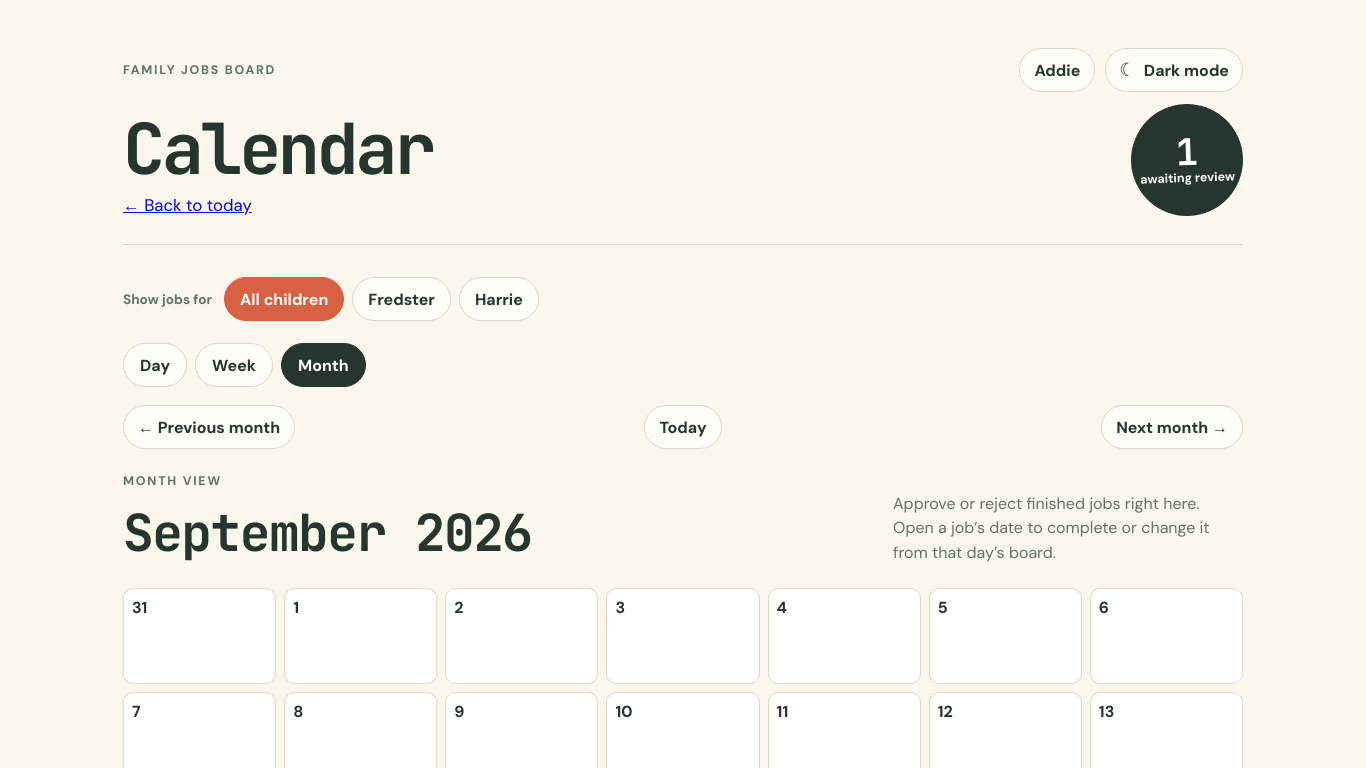
Approvals panel › rejects with feedback and resends the same reason when the rejection fails
The width and height of the screenshot is (1366, 768).
Click the button with aria-label "1 jobs awaiting review": coordinates (1187, 160) [1129,102,1245,218]
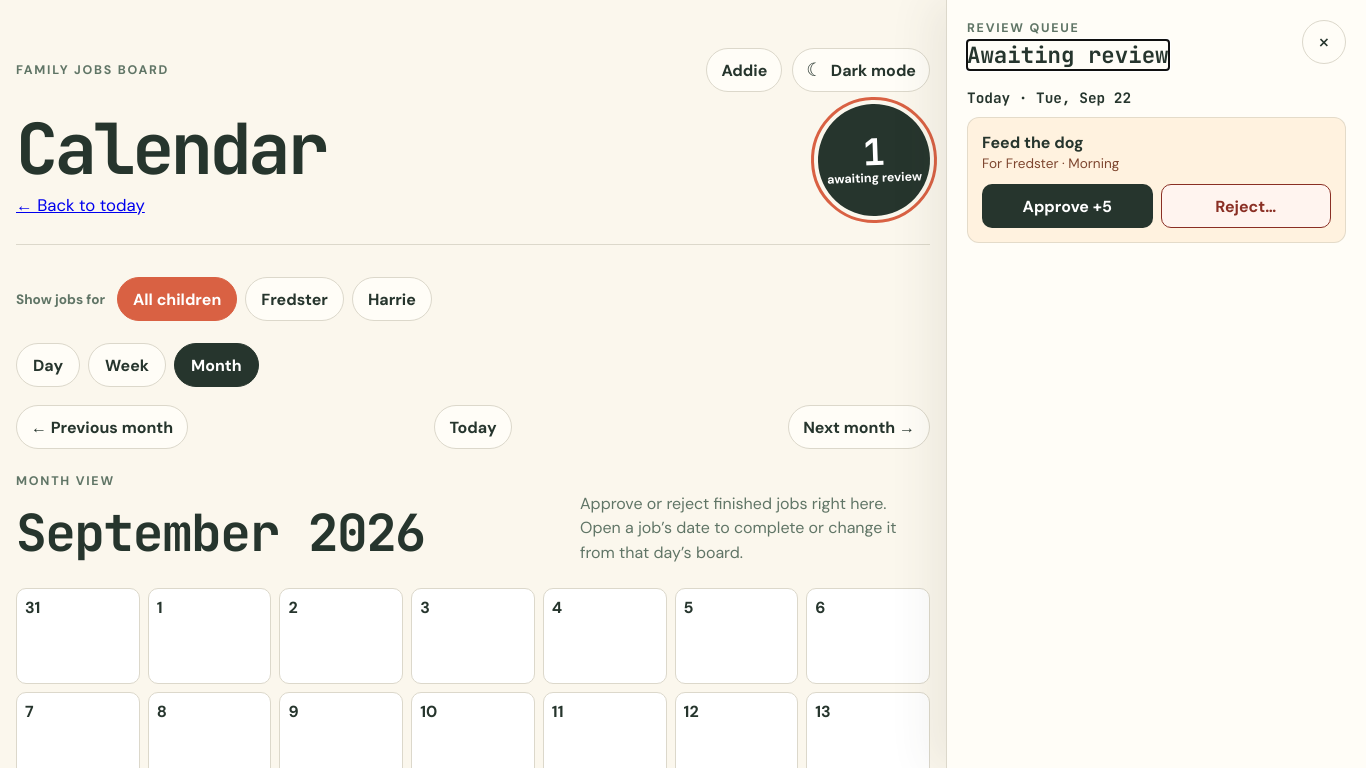
Click the heading "Reject…": coordinates (1246, 206) [1160,184,1331,228]
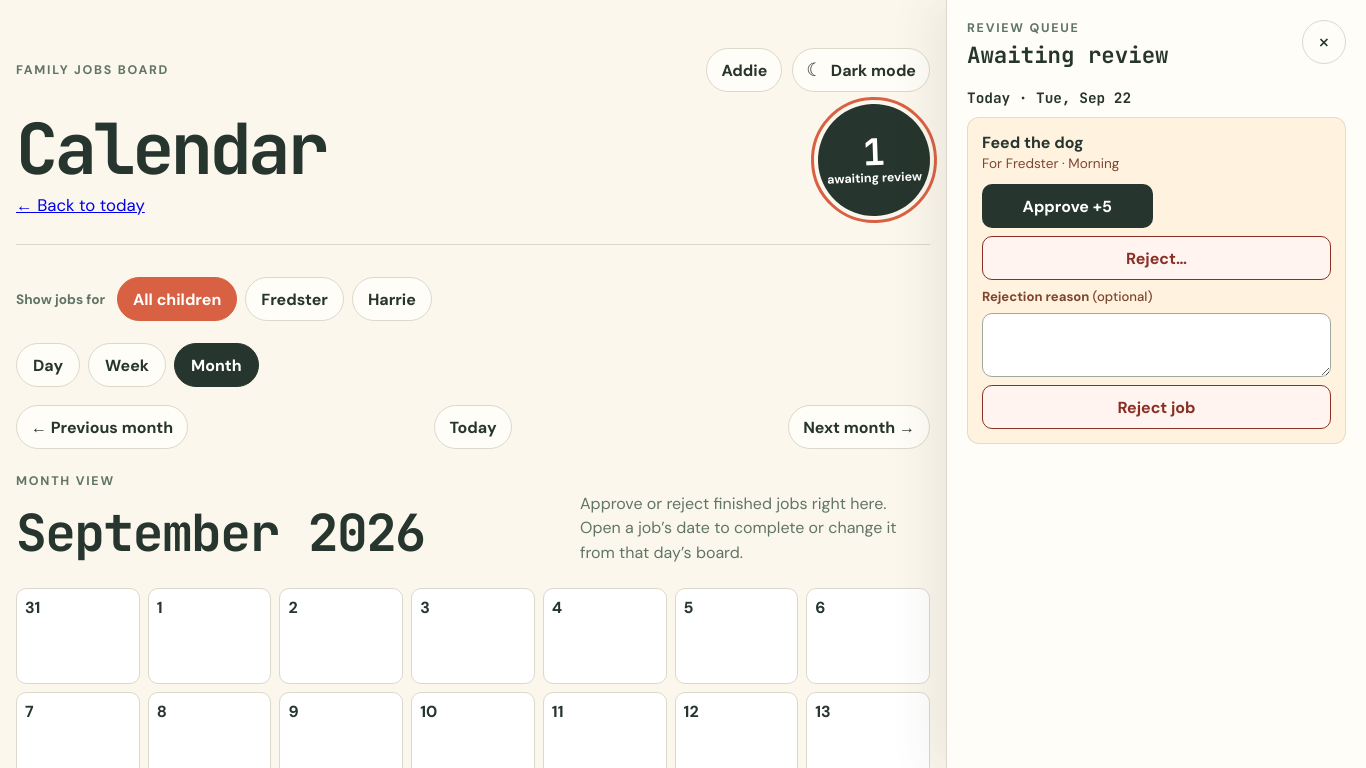
In the text box labelled "Rejection reason (optional)": coordinates (1156, 345) [982,313,1331,377], type "The bowl is still empty"
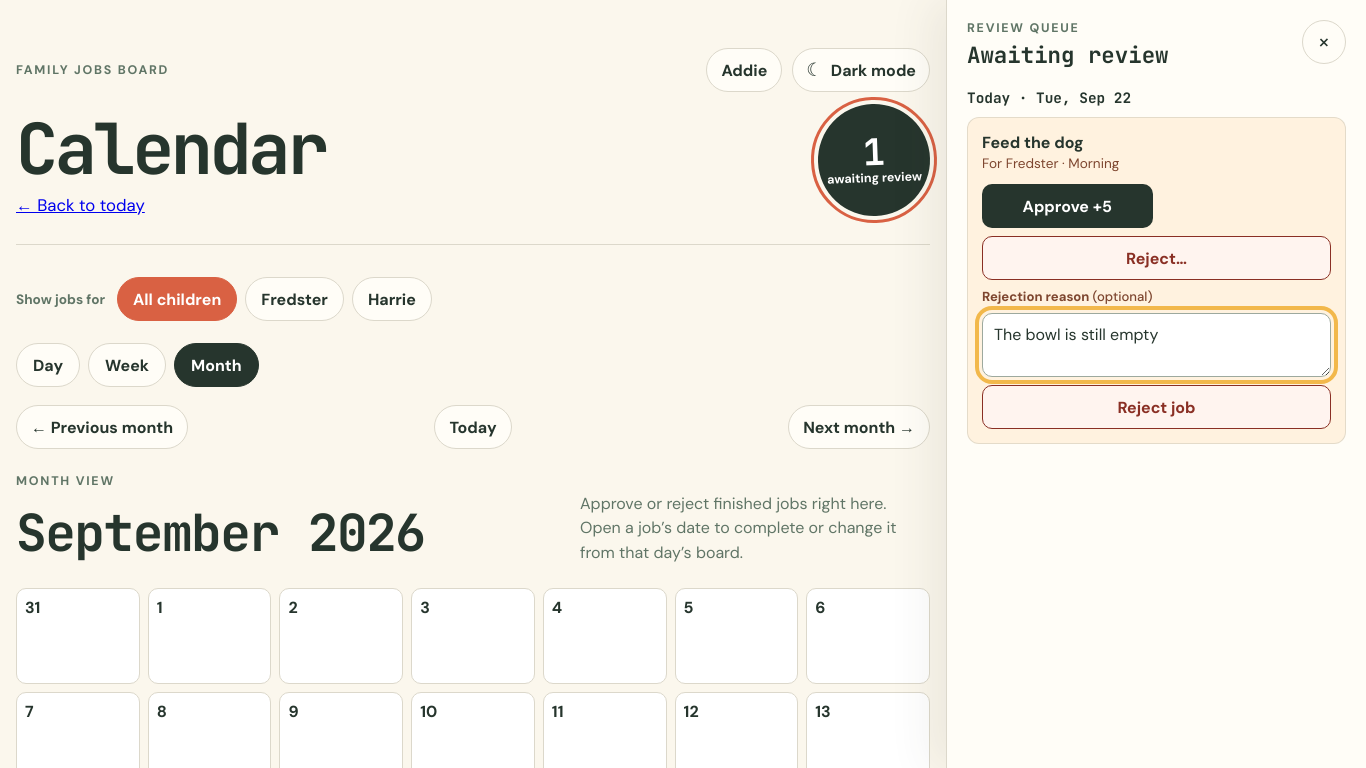
Click the button named "Reject job Feed the dog for Fredster": coordinates (1156, 407) [982,385,1331,429]
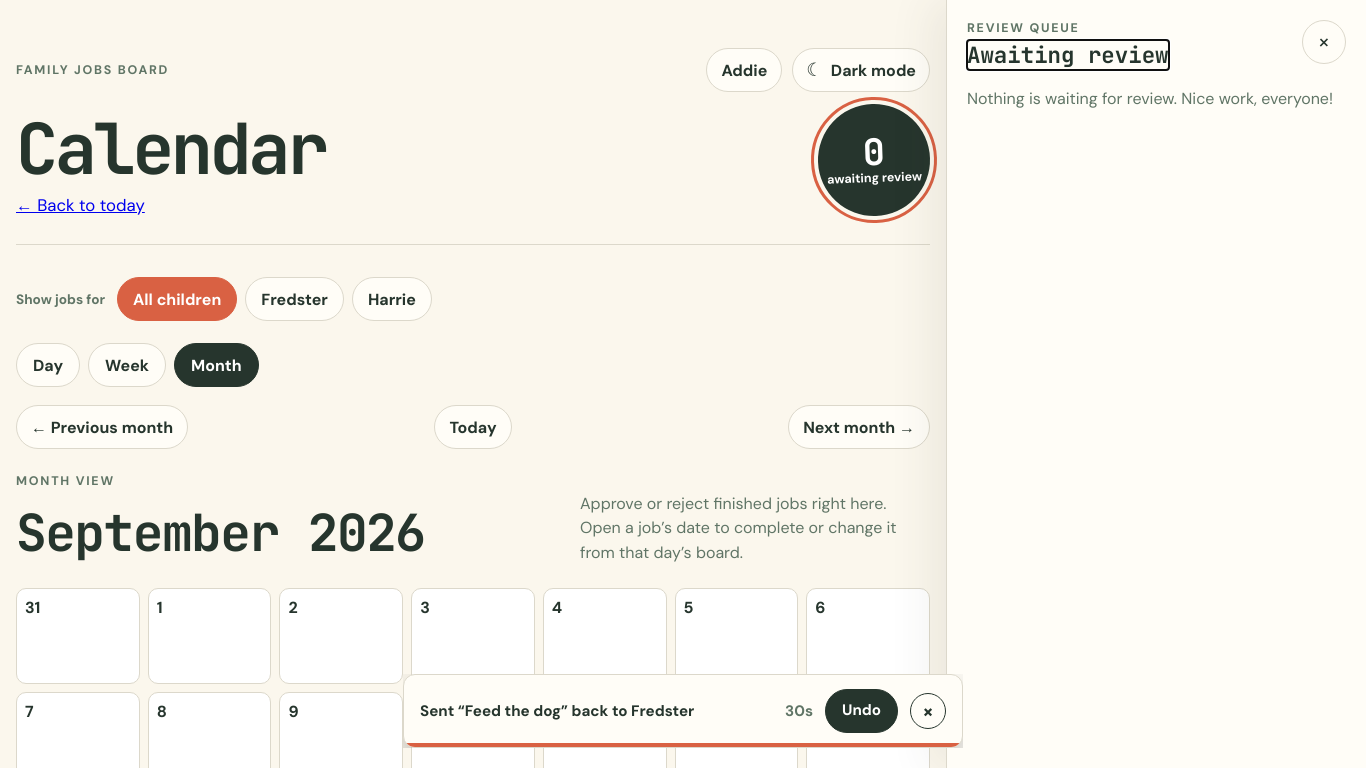
Click the button named "Dismiss and save now": coordinates (928, 711) [910,693,946,729]
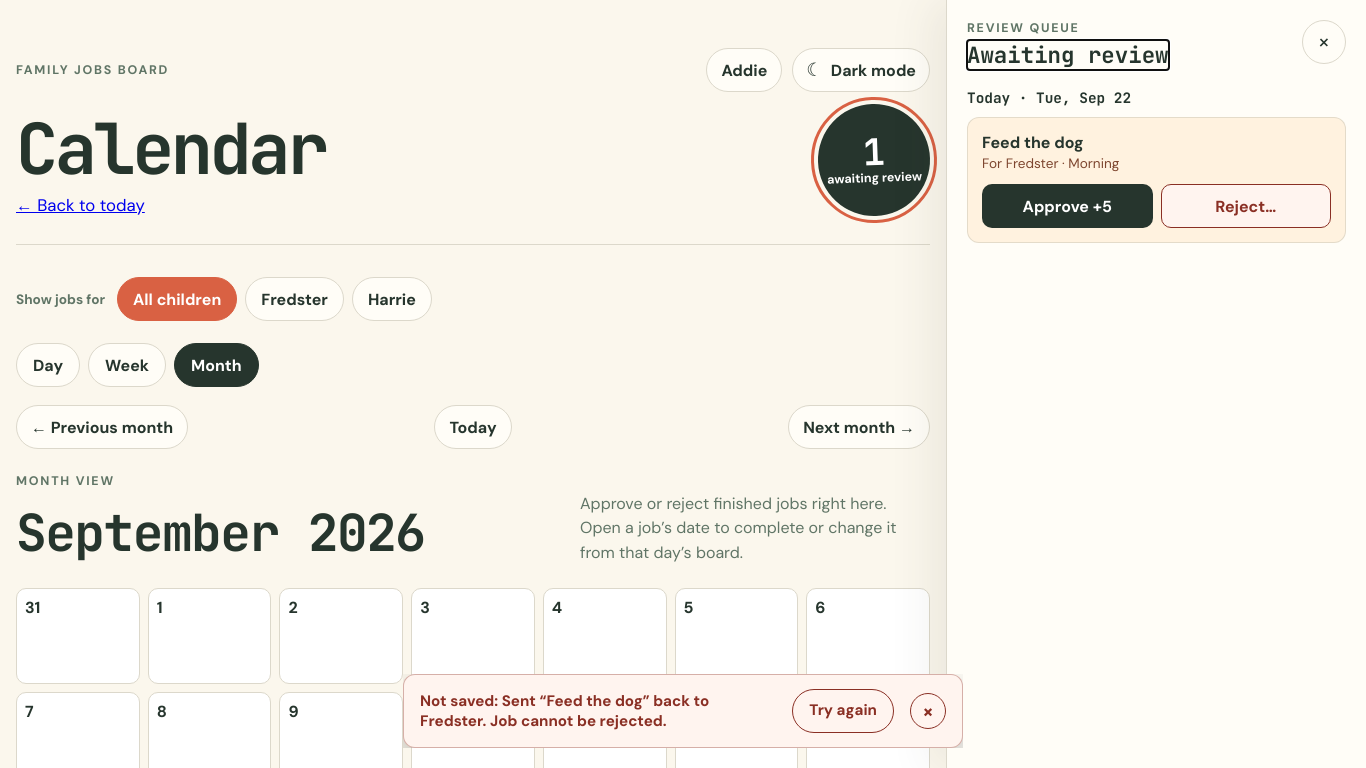
expect the message shows "Job cannot be rejected": met, box [420,691,709,731]
expect the text "Feed the dog" is shown: met, box [982,132,1084,153]
Click the button "Try again": coordinates (843, 711) [792,689,894,733]
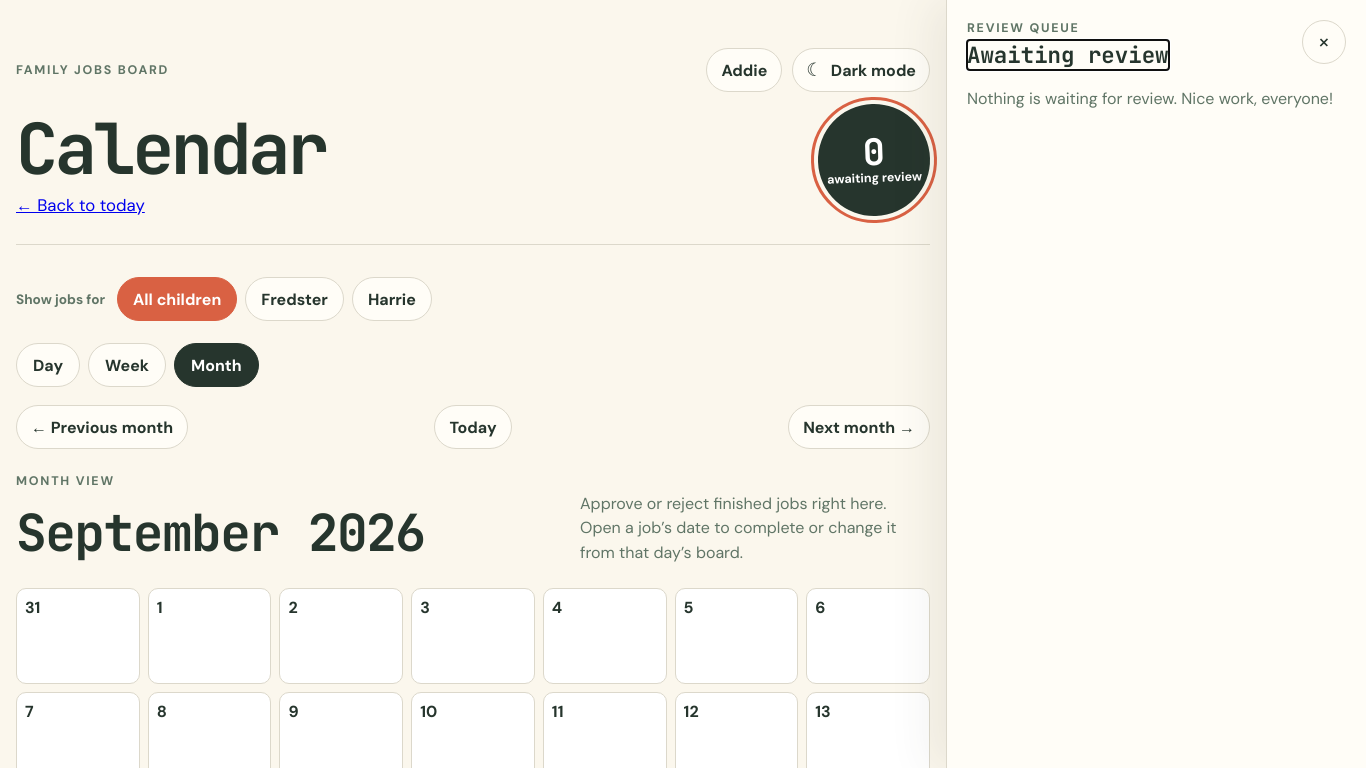
expect the text "Nothing is waiting for review. Nice work, everyone!" is shown: met, box [967,88,1346,109]
